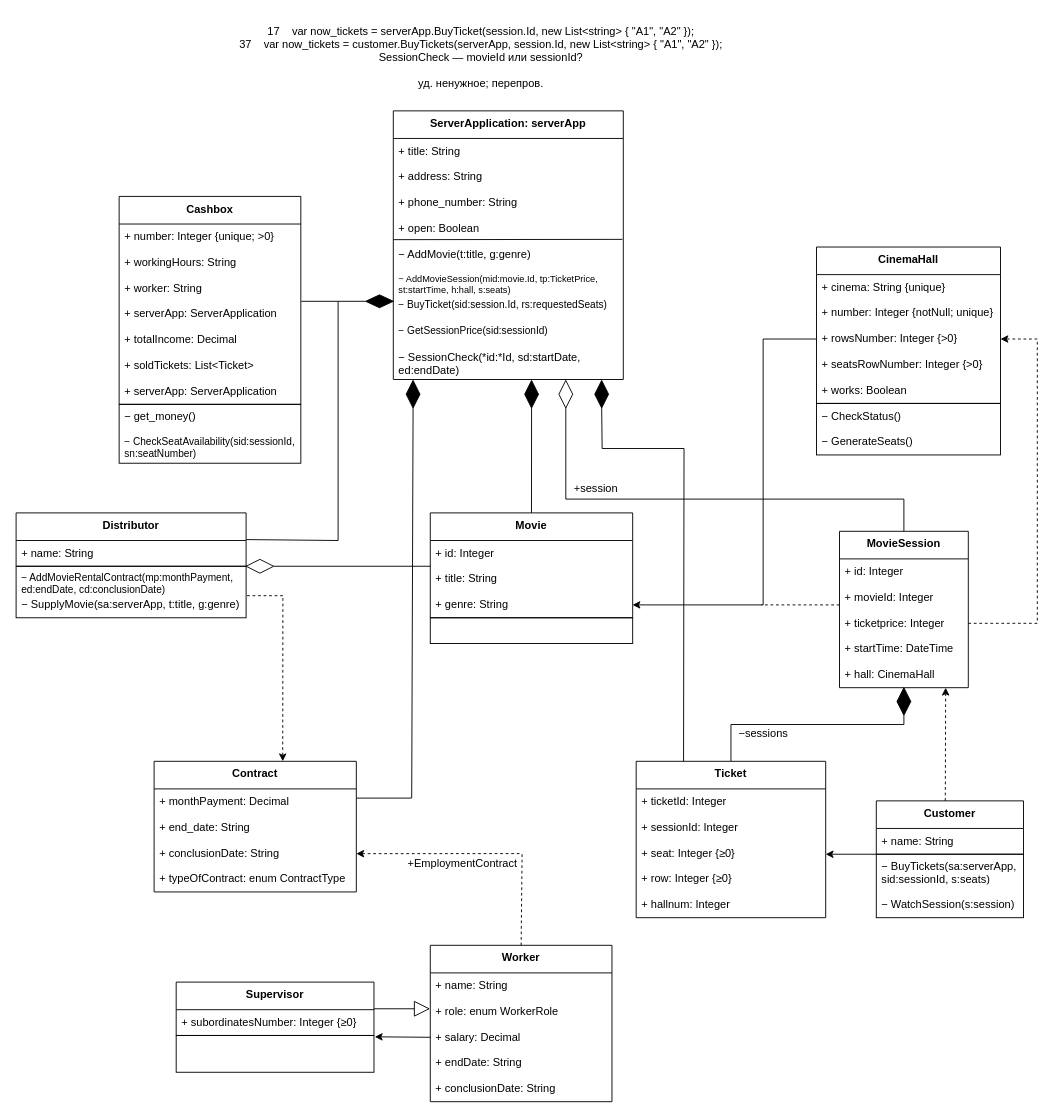
The diagram is 1061 pixels wide and 1120 high, and some of its shapes have lost their labels. Here are the shapes that lost their labels. From the top down, the centre of each, then its label:
point (531, 630): − add_film()
point (274, 1053): − AssignTask(t:task) − EvaluateSubordinates()
